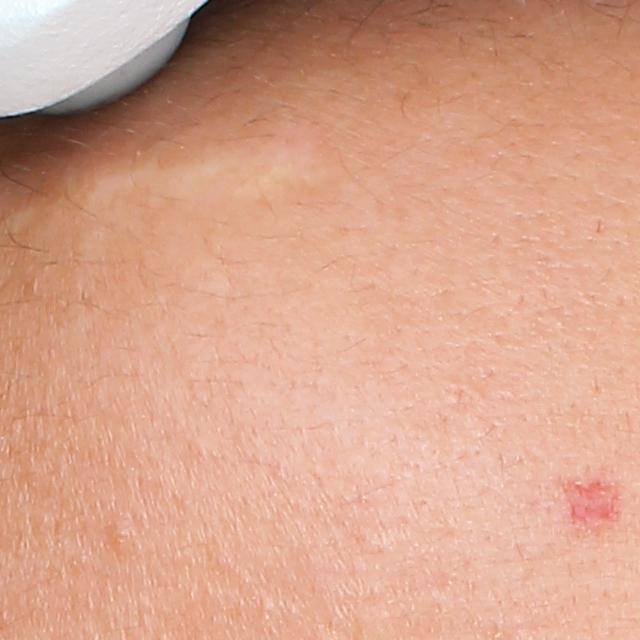comedo: (106, 522, 140, 558)
other: (48, 120, 354, 231), (554, 471, 636, 536)
